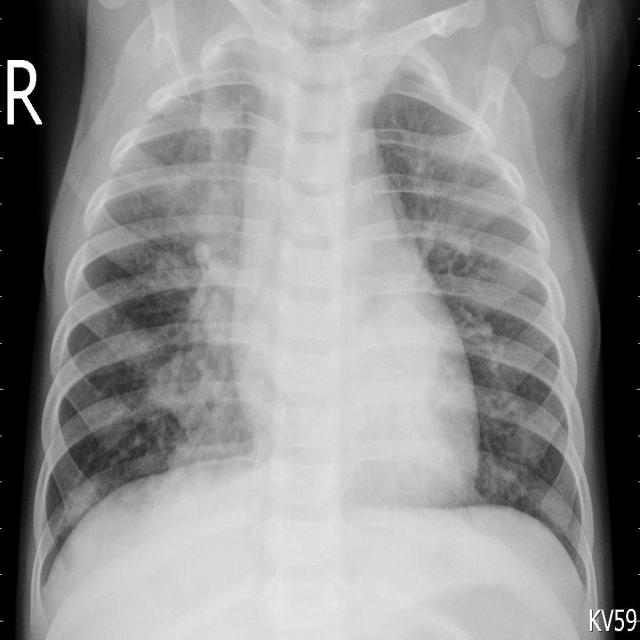high-pneumonia: (152, 87, 246, 465), (212, 30, 275, 115)
low-pneumonia: (405, 94, 497, 307)
